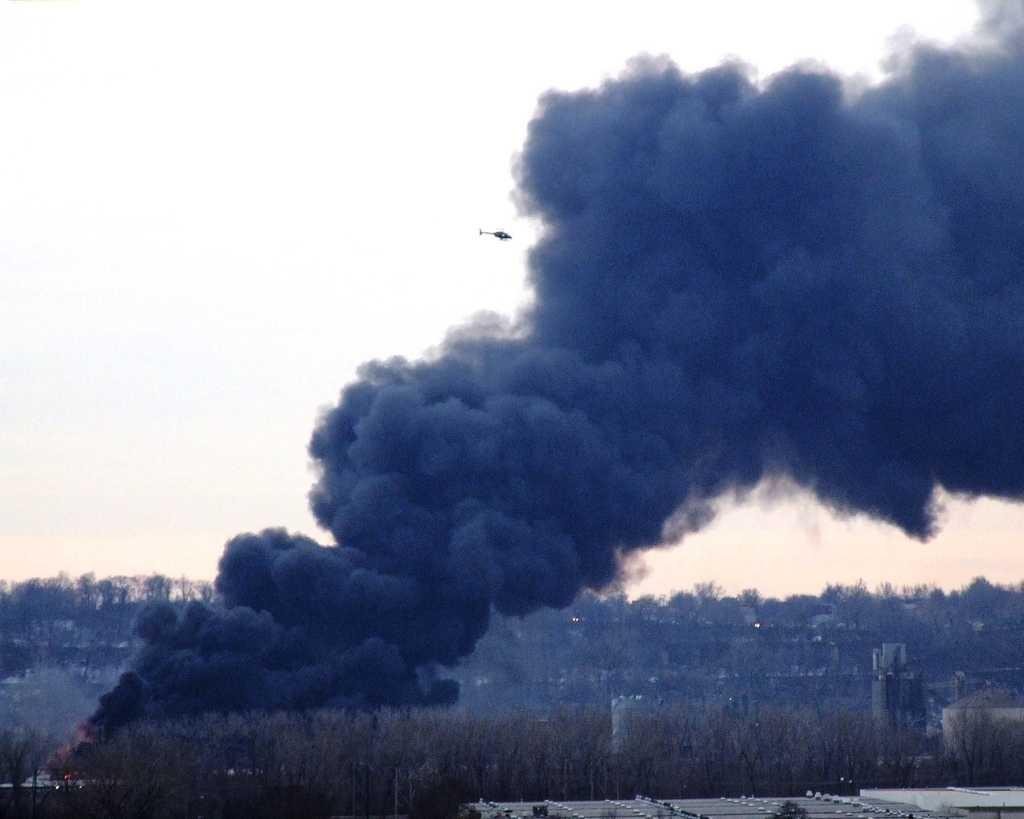smoke: (578, 95, 1016, 459), (356, 367, 568, 607), (164, 612, 332, 710)
